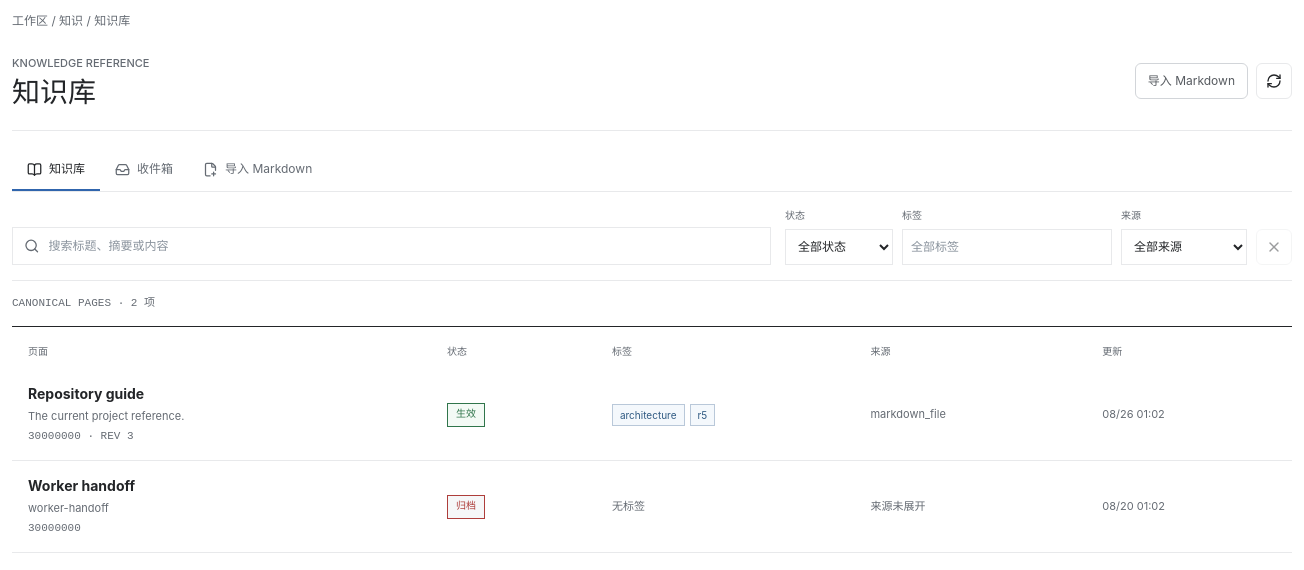
Test: KnowledgeLibraryPage › sends status, tag and source filters to the knowledge search endpoint
This screenshot has width=1304, height=570.
Select "归档" in the dropdown named "状态筛选" at (839, 247), box x1=785 y1=229 x2=893 y2=265
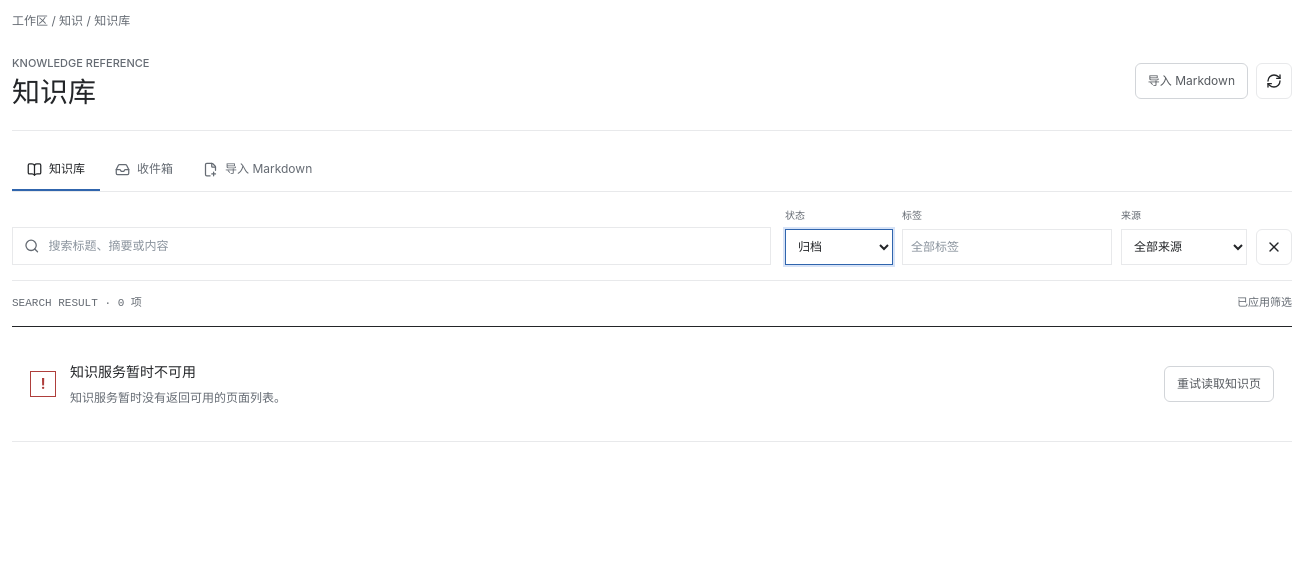
Type "architecture" into the field named "标签筛选".
click(1007, 247); type("architecture")  # box x1=902 y1=229 x2=1112 y2=265
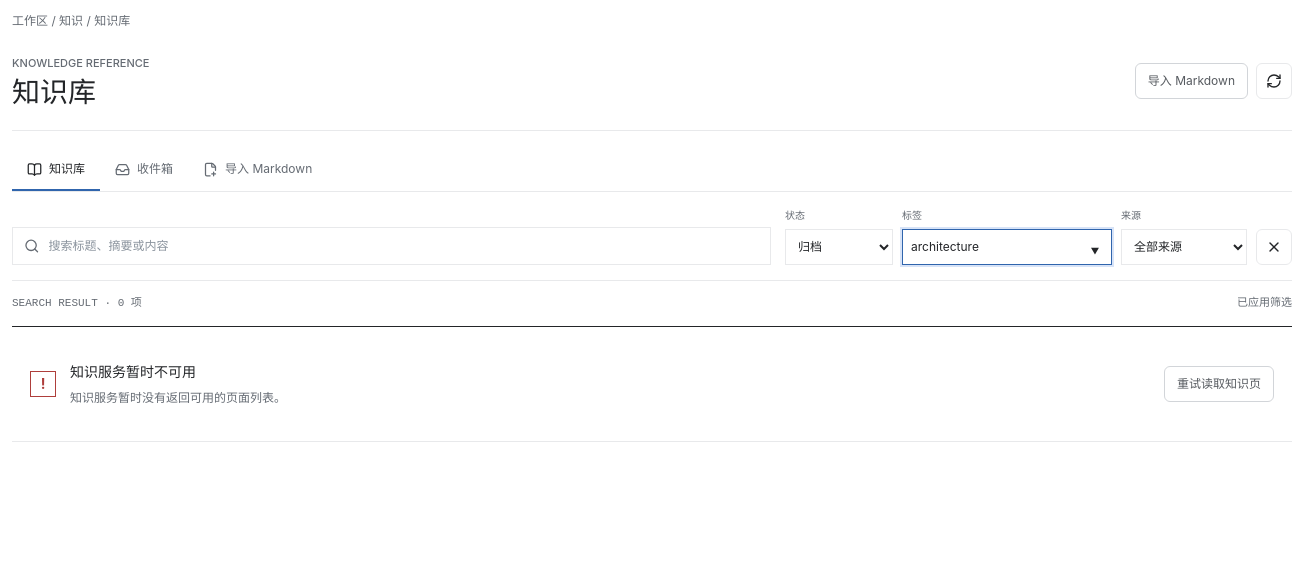
Select "Markdown 文件" in the dropdown named "来源类型筛选" at (1184, 247), box x1=1121 y1=229 x2=1247 y2=265
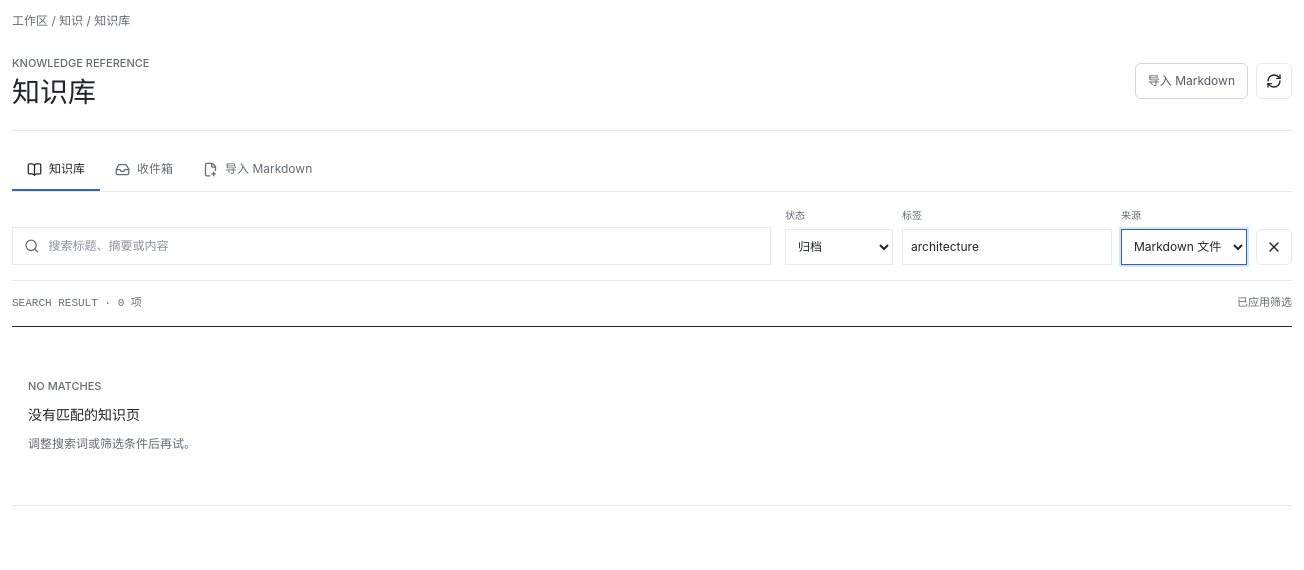
Result: the text "没有匹配的知识页" is shown at x1=28 y1=403 x2=140 y2=426
